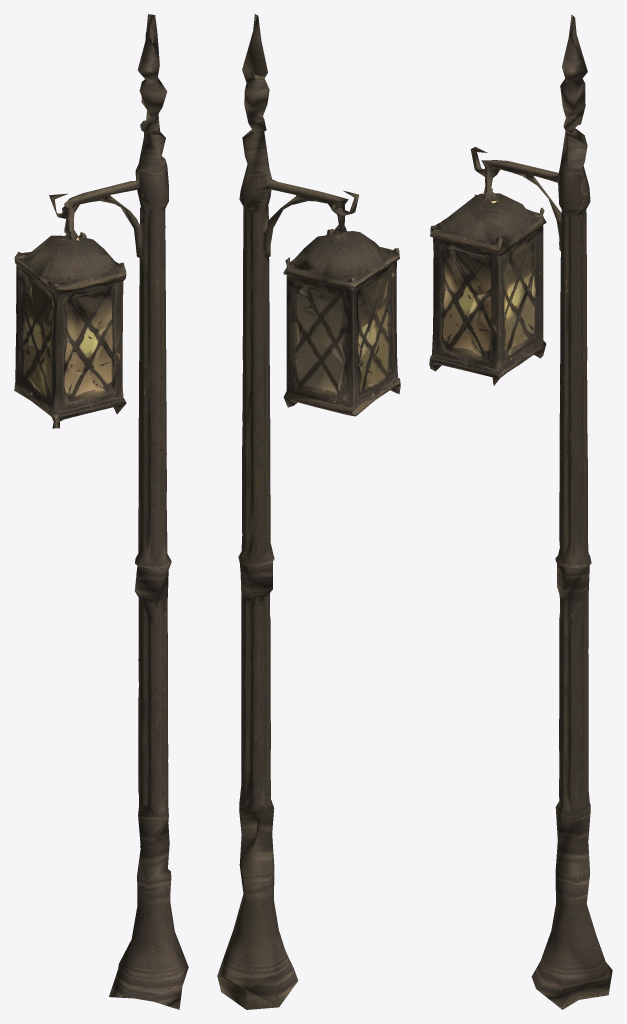
The model's file is lantern.glb.
The picture shows the model from 3 angles, left to right: view 1: azimuth 30°, elevation 25°; view 2: azimuth 150°, elevation 25°; view 3: azimuth 330°, elevation 25°; orthographic projection.
Bounding box in the file's own units: 0.3047 × 1.87 × 0.1638.
1 material, 1 textured.
